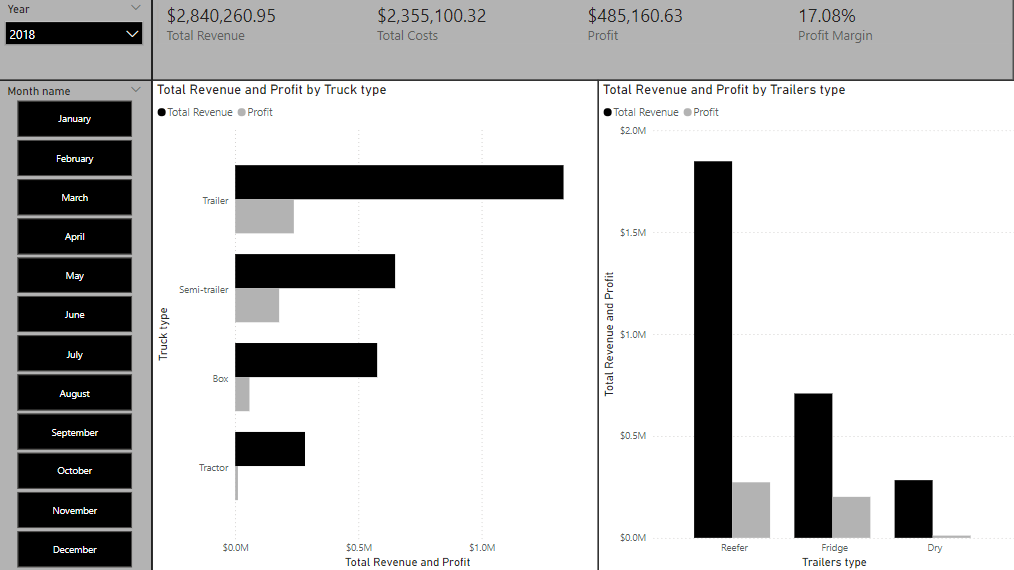

This screenshot's page, from the dashboard's own definition file:
{"tool":"powerbi","page":{"name":"Fleet Financials  ","canvas":[1280,720],"ordinal":1},"visuals":[{"type":"multiRowCard","fields":{"Values":["Freight.Total Revenue","Costs.Total Costs","Freight.Profit","Freight.Profit Margin"]},"box":[194.5,0,1076.7,103.1],"z":0},{"type":"clusteredBarChart","title":"Total Revenue and Profit by Truck type","fields":{"Category":["Vehicles.Truck type"],"Y":["Freight.Total Revenue","Freight.Profit"]},"box":[194.5,103.1,558.3,616.7],"z":1000},{"type":"clusteredColumnChart","title":"Total Revenue and Profit by Trailers type","fields":{"Category":["Vehicles.Trailers type"],"Y":["Freight.Total Revenue","Freight.Profit"]},"box":[752.8,103.1,527.2,616.7],"z":2000},{"type":"slicer","fields":{"Values":["Date.Year"]},"box":[0,0,194.5,103.1],"z":3000},{"type":"slicer","fields":{"Values":["Date.Month name"]},"box":[0,103.1,194.5,616.7],"z":4000}]}

Visuals, with their boxes in screenshot pixels (x1, y1, x2, y2), scaled from the page's 1280x720 canvas onto the 1014x570 screenshot:
multiRowCard - Freight.Total Revenue x Costs.Total Costs: <region>154, 0, 1007, 82</region>
"Total Revenue and Profit by Truck type" clusteredBarChart: <region>154, 82, 596, 569</region>
"Total Revenue and Profit by Trailers type" clusteredColumnChart: <region>596, 82, 1013, 569</region>
slicer - Date.Year: <region>0, 0, 154, 82</region>
slicer - Date.Month name: <region>0, 82, 154, 569</region>
